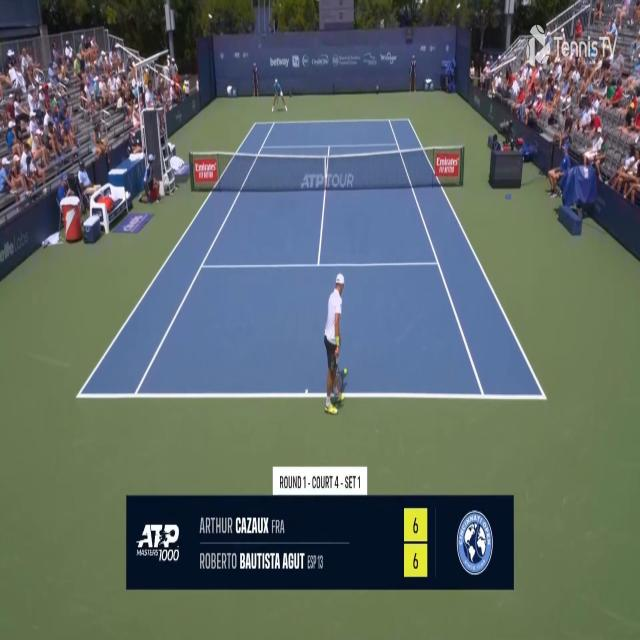tennis-player: (320, 268, 349, 419), (270, 77, 289, 114)
